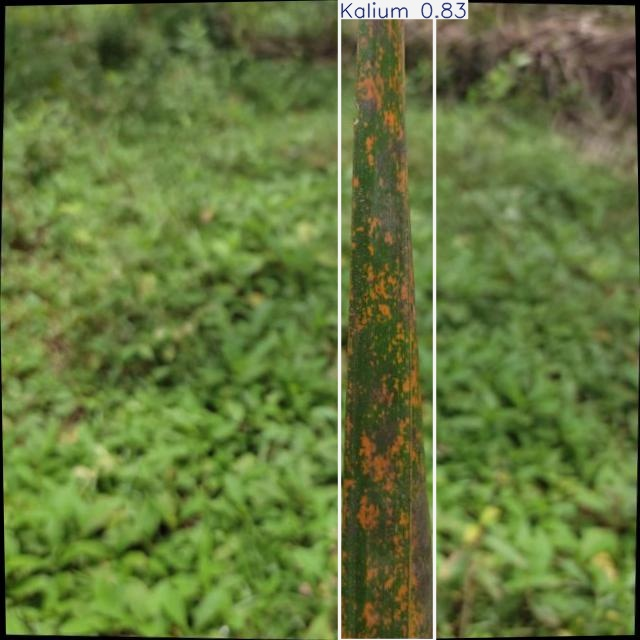Kalium: (339, 1, 435, 640)
